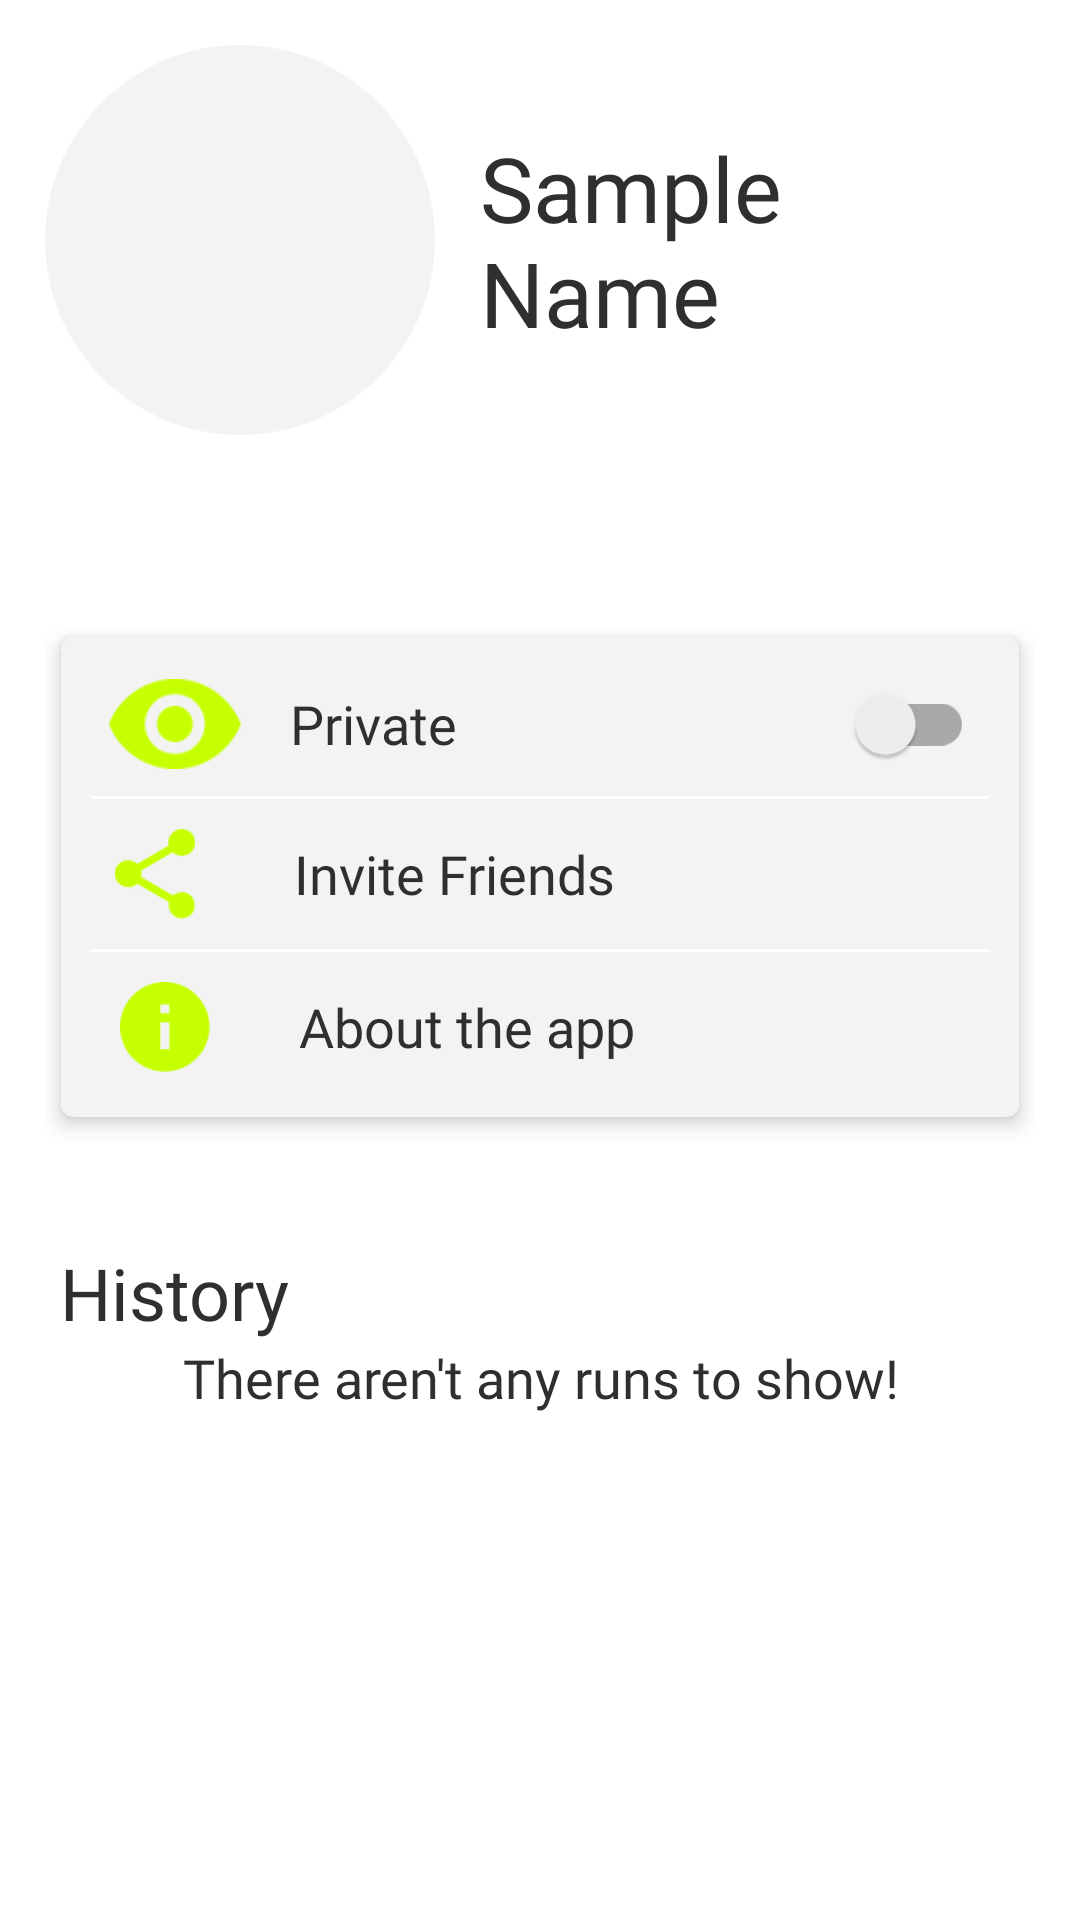

Point at icon controls on the screen. Image size 1080px x 1920px, points as (x=x, y=y).
info: (x=165, y=1027)
share: (x=155, y=874)
